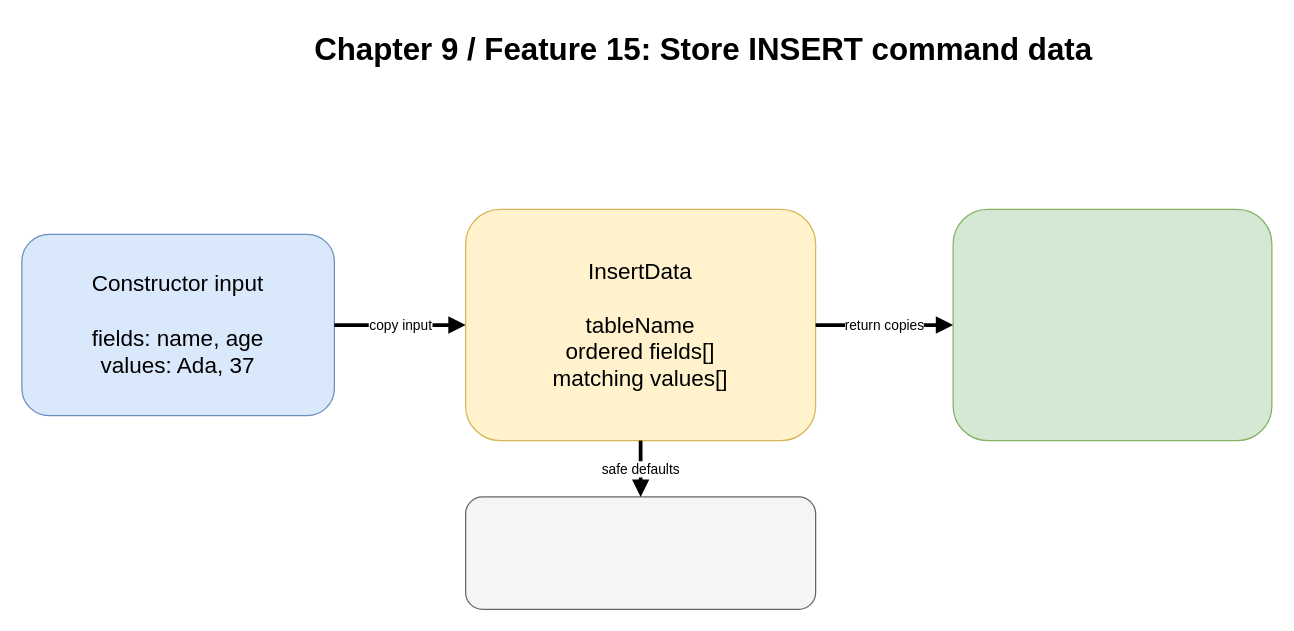
Image size: 1294x631. Some labels were removed from this diagram. Here are the shapes that lost their labels. From the top down, the centre of each, then its label:
At [1112,324]: "Read-only accessors TableName() Fields() → copy Values() → copy".
At [640,552]: "Zero value empty table nil field and value lists".
